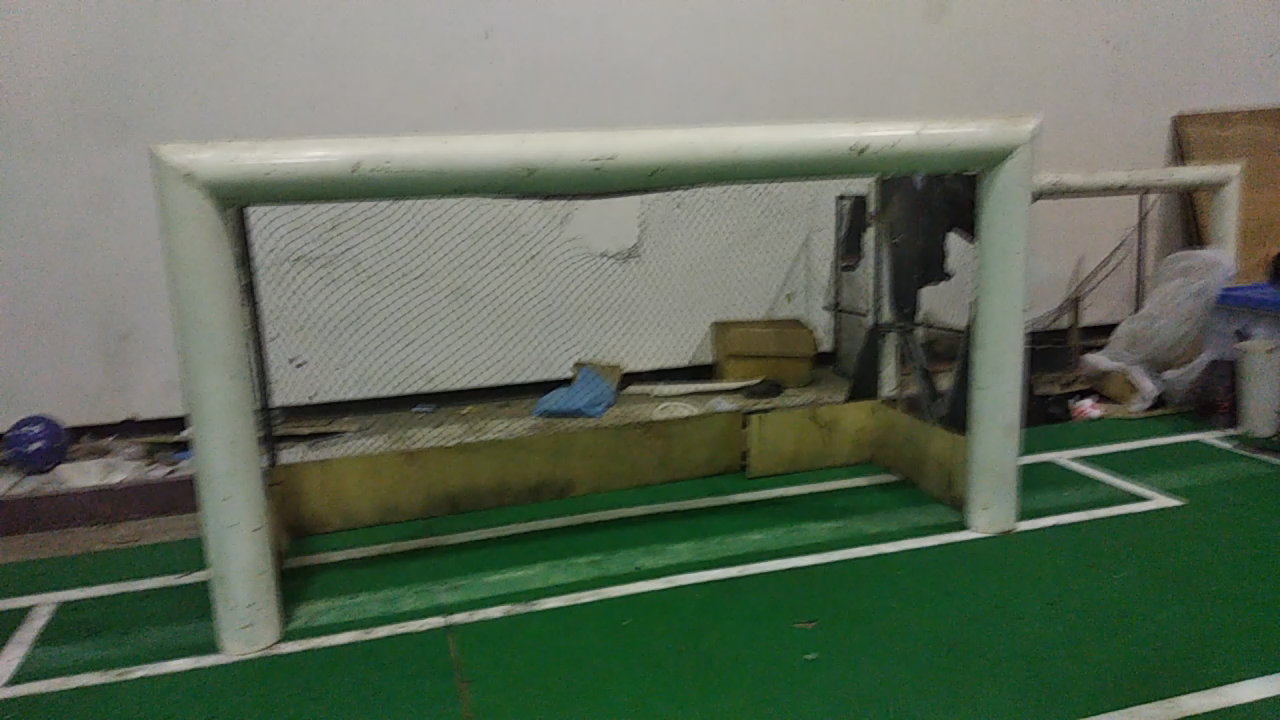gawang: (137, 87, 1041, 663)
